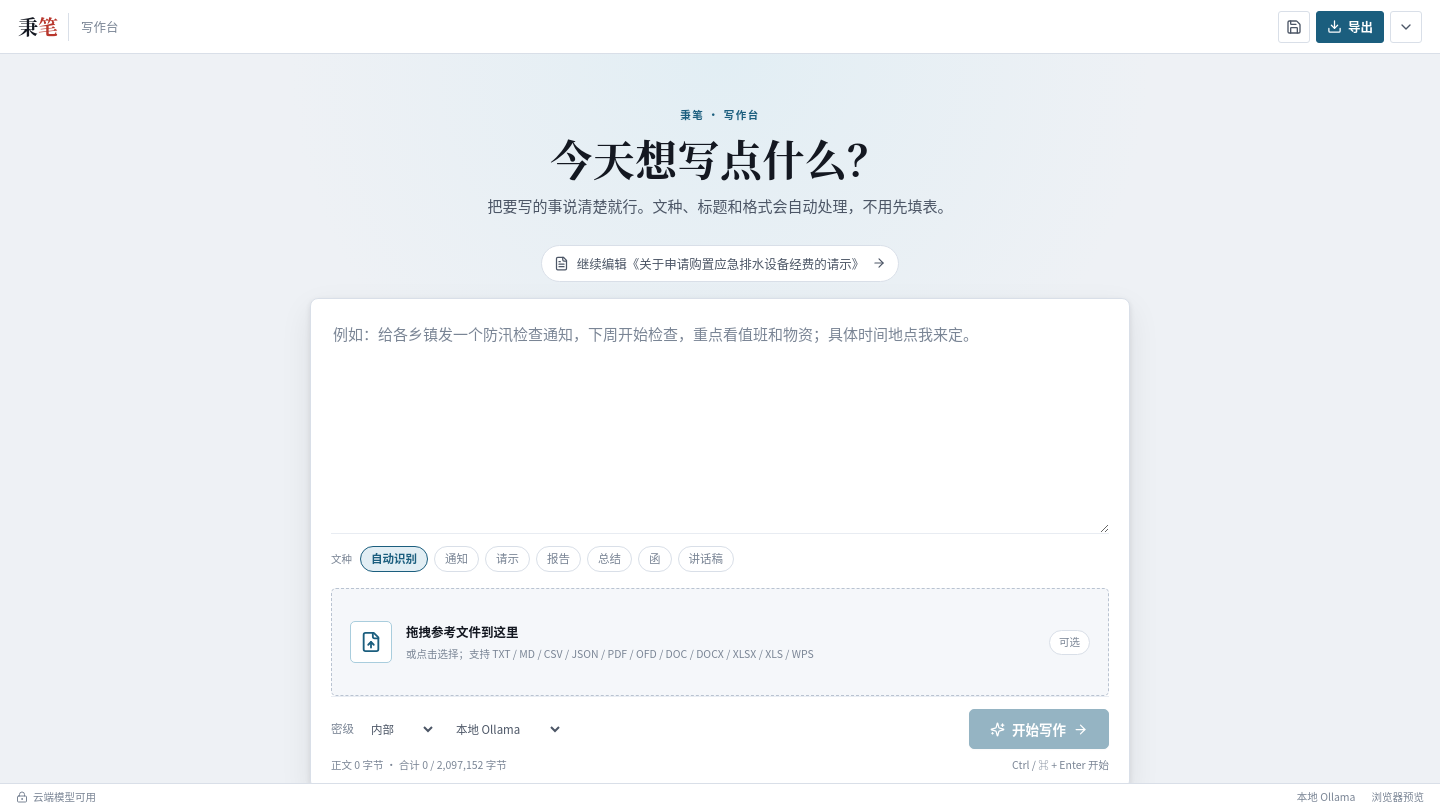
Test: App writing desk › creates a blank document and returns to the writing desk
This screenshot has width=1440, height=810.
Click the button named "更多" at [1406, 26], box [1390, 10, 1422, 42]
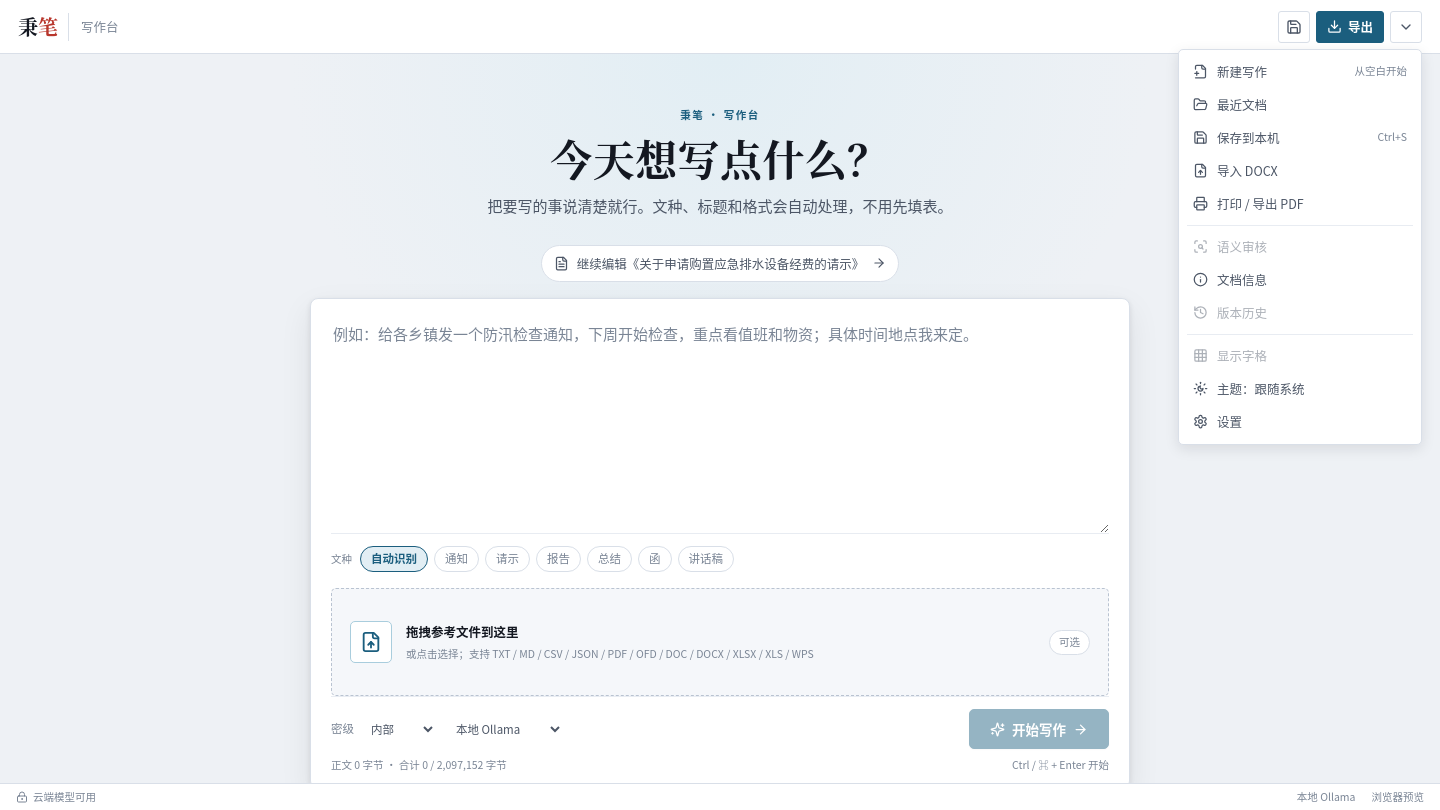
Click the menu item "新建写作 从空白开始" at [1300, 72], box [1185, 56, 1415, 88]
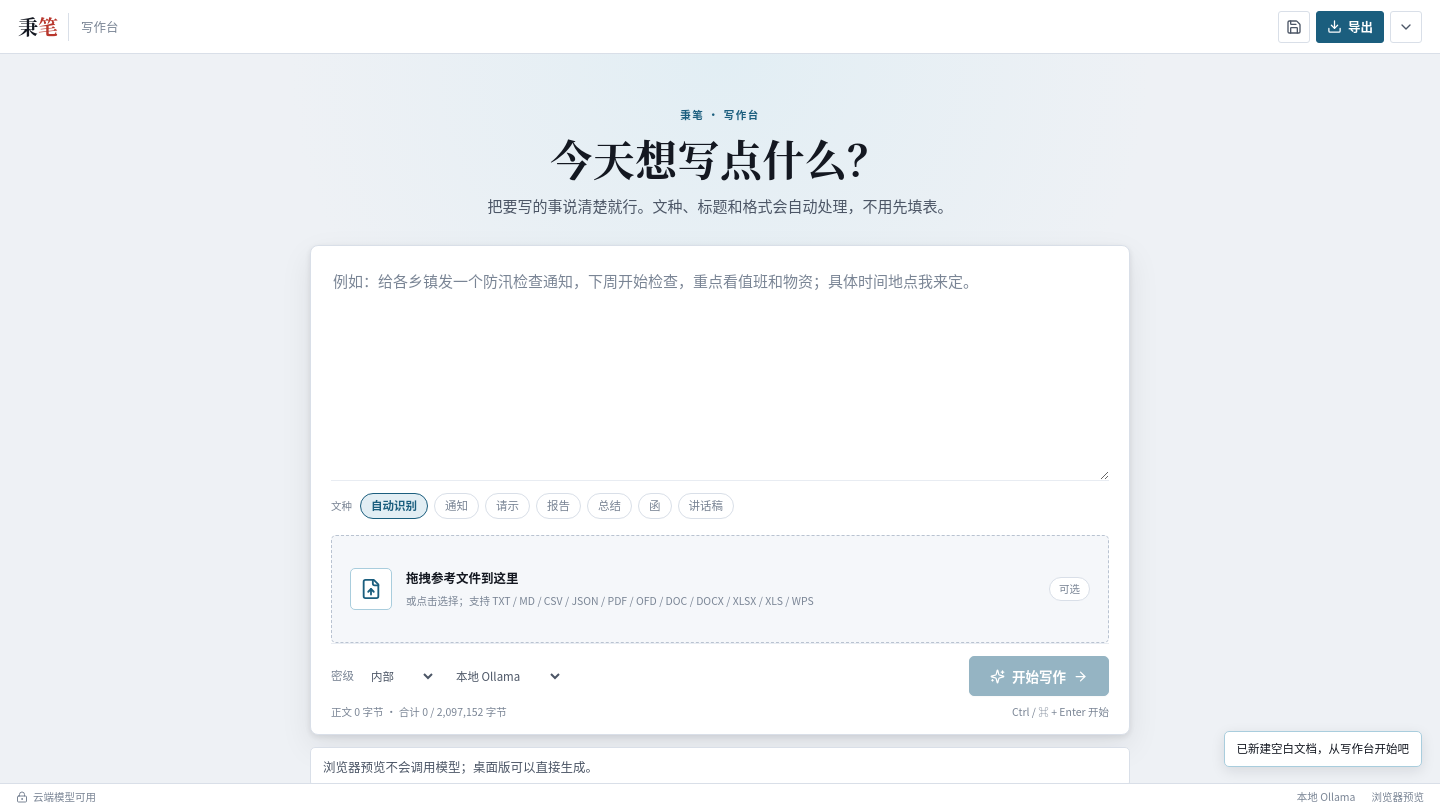
Expected: the text box named "写作要求" is shown, [331, 264, 1109, 480]
Result: the text "已新建空白文档，从写作台开始吧" is shown at [1224, 731, 1422, 767]
